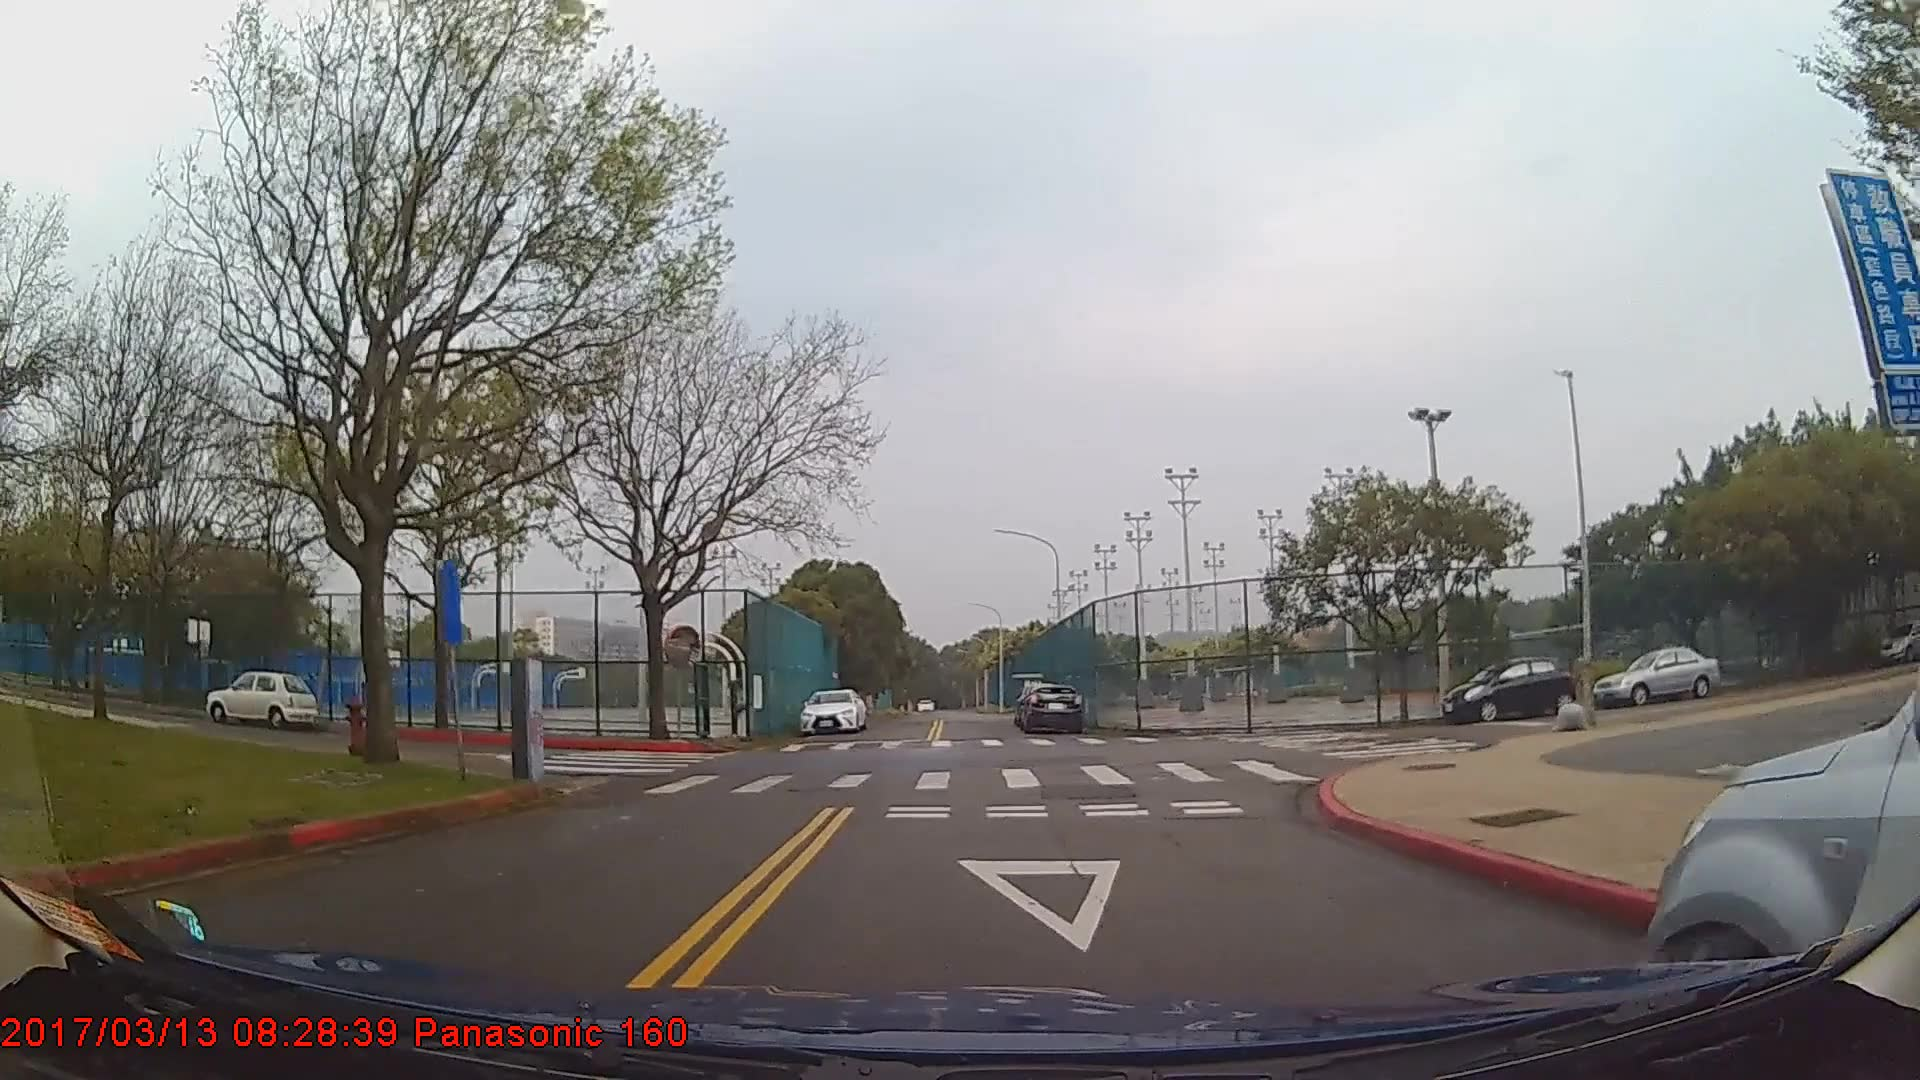vehicle: (1439, 658, 1573, 723), (1593, 645, 1722, 708), (204, 666, 318, 727), (1017, 680, 1083, 735), (795, 687, 864, 737), (1878, 618, 1920, 665)
